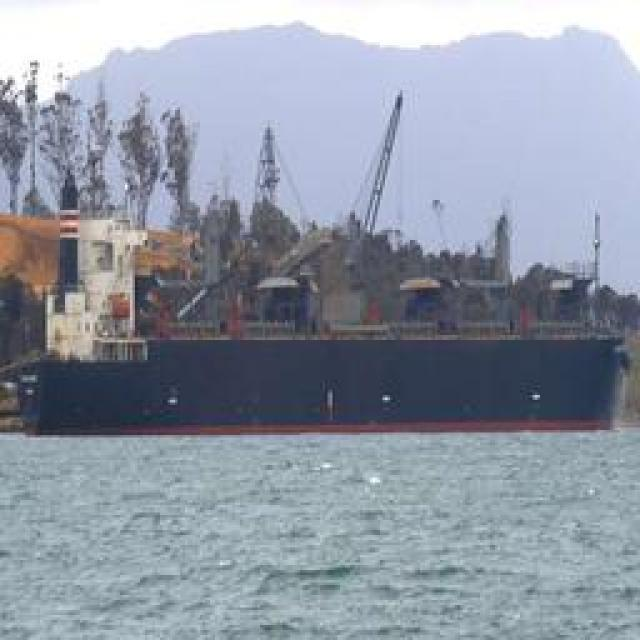CIV_Ship: (14, 79, 626, 436)
